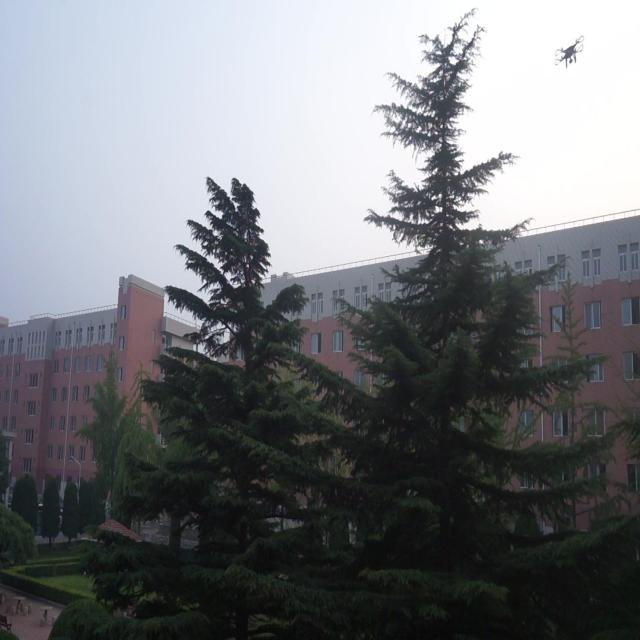drone: (552, 31, 588, 70)
